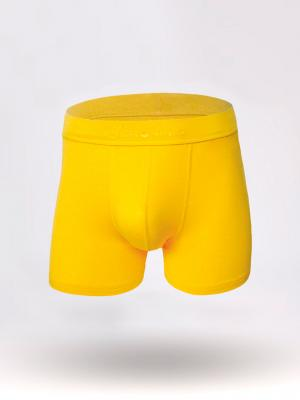Mens Underwear: (46, 82, 257, 297)
